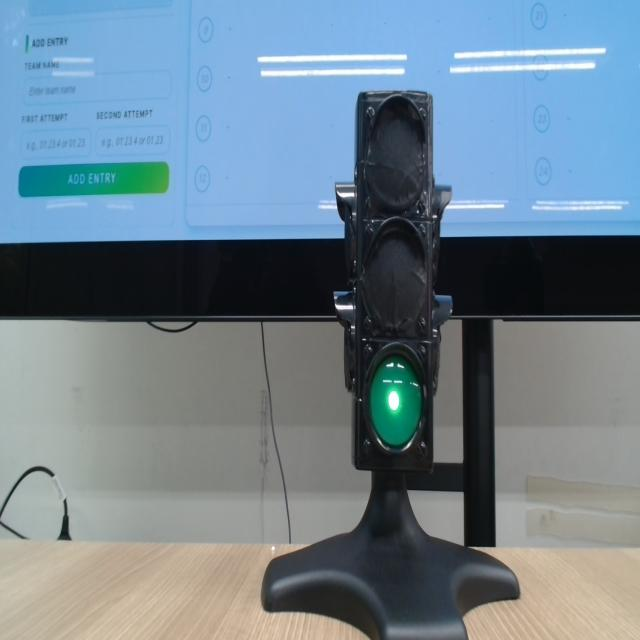green_light: (369, 355, 422, 448), (388, 390, 400, 411)
